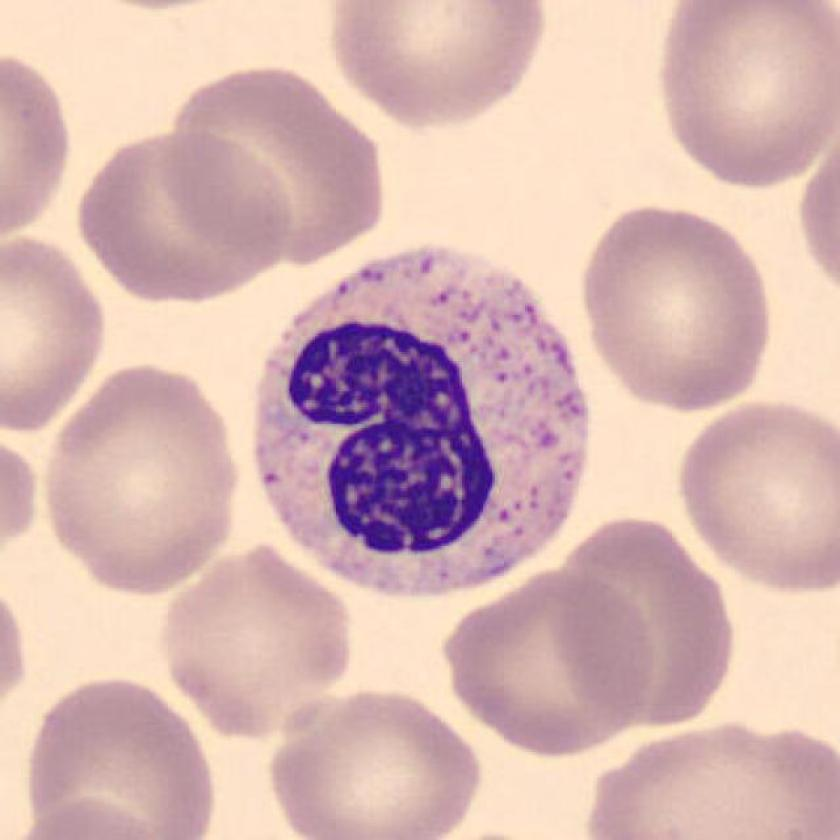neutrophil: (255, 248, 591, 597)
